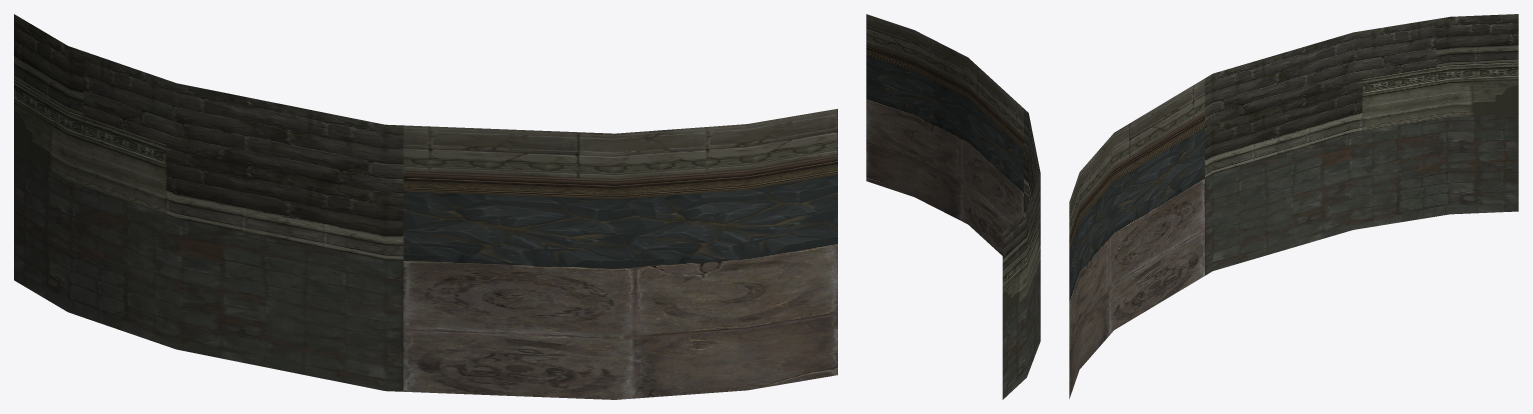
The picture shows the model from 3 angles, left to right: view 1: azimuth 30°, elevation 25°; view 2: azimuth 150°, elevation 25°; view 3: azimuth 270°, elevation 25°; orthographic projection. The views are drawn at different scales.
Visible parts, largest first — view 1: mx_fx_yanwu_1; view 2: mx_fx_yanwu_1; view 3: mx_fx_yanwu_1.
Part boxes in pixels (x1=…): mx_fx_yanwu_1: x1=14, y1=14, x2=837, y2=399; mx_fx_yanwu_1: x1=866, y1=14, x2=1040, y2=399; mx_fx_yanwu_1: x1=1069, y1=14, x2=1518, y2=398.
Size of the model in its own units: 1025 by 501 by 1033.
